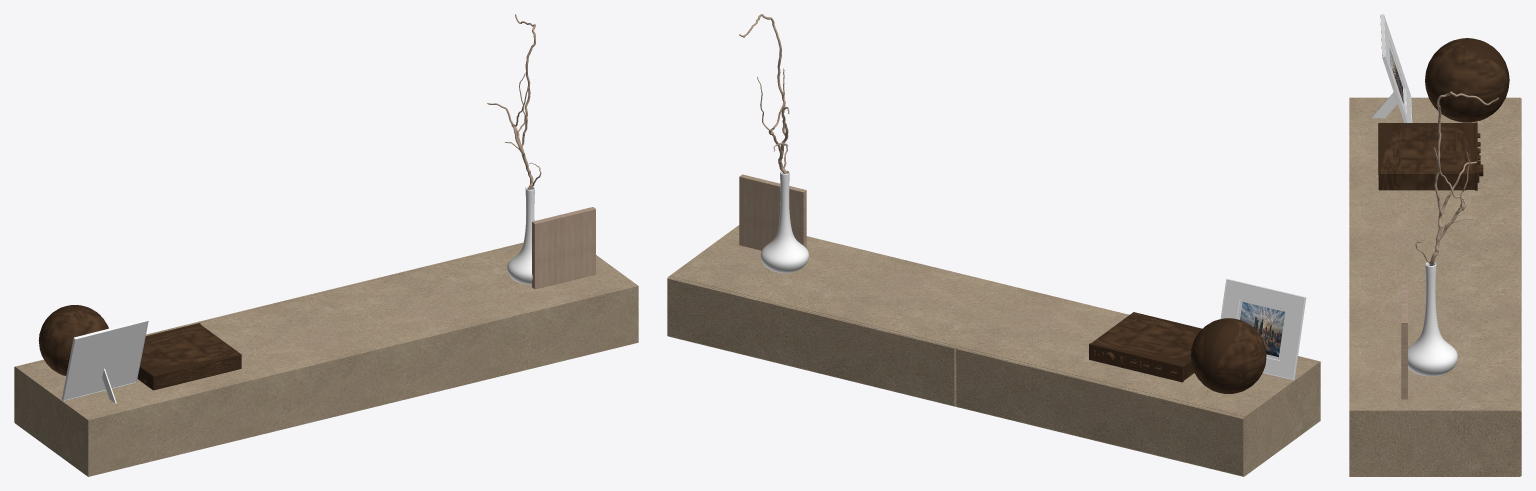
File: tvcab02.glb
The picture shows the model from 3 angles, left to right: view 1: azimuth 30°, elevation 25°; view 2: azimuth 150°, elevation 25°; view 3: azimuth 270°, elevation 25°; orthographic projection. The views are drawn at different scales.
Visible parts, largest first — view 1: 0202_MasterBedroom_LowCabinet; view 2: 0202_MasterBedroom_LowCabinet; view 3: 0202_MasterBedroom_LowCabinet.
Boxes of the visible parts, x1,y1,x2,y2 form: 0202_MasterBedroom_LowCabinet: (14,14,638,476); 0202_MasterBedroom_LowCabinet: (667,14,1320,476); 0202_MasterBedroom_LowCabinet: (1349,14,1521,476).
Size of the model in its own units: 0.265 by 0.1385 by 0.0616.
Materials: 6 (4 with a texture image).
